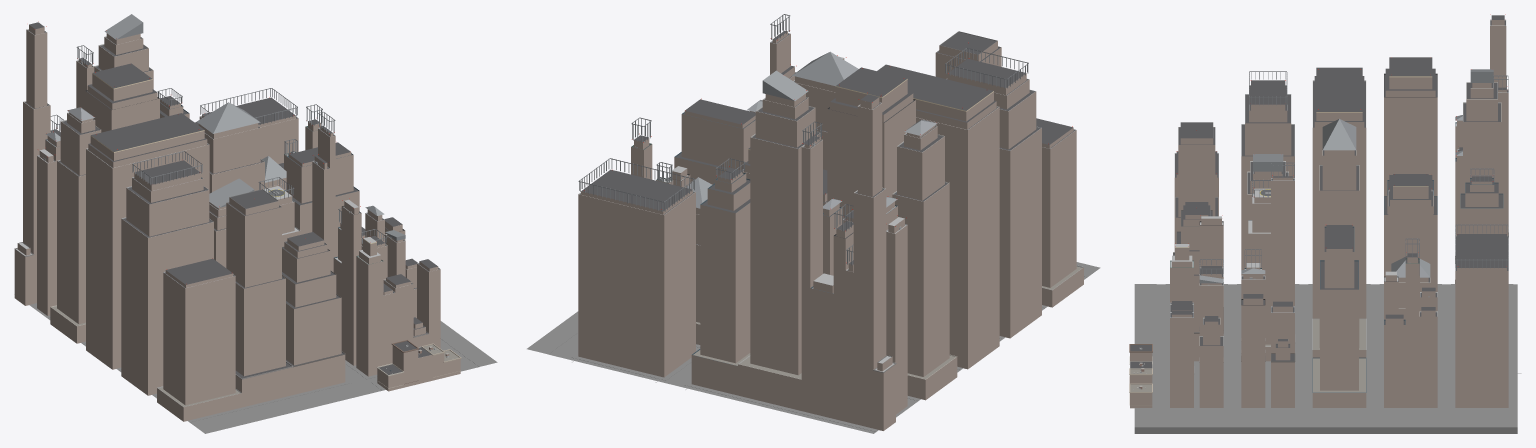
The picture shows the model from 3 angles, left to right: view 1: azimuth 30°, elevation 25°; view 2: azimuth 150°, elevation 25°; view 3: azimuth 270°, elevation 25°; orthographic projection. The views are drawn at different scales.
Visible parts, largest first — view 1: t34_facade, t34_roof, t34_ground, t34_detail; view 2: t34_facade, t34_roof, t34_ground, t34_detail; view 3: t34_facade, t34_ground, t34_roof, t34_detail.
Part boxes in pixels (x1=…): t34_facade: x1=14, y1=25, x2=460, y2=421; t34_roof: x1=16, y1=14, x2=459, y2=406; t34_ground: x1=29, y1=303, x2=497, y2=433; t34_detail: x1=14, y1=29, x2=461, y2=405; t34_facade: x1=578, y1=31, x2=1083, y2=430; t34_roof: x1=578, y1=14, x2=1082, y2=379; t34_ground: x1=527, y1=262, x2=1100, y2=433; t34_detail: x1=578, y1=31, x2=1083, y2=379; t34_facade: x1=1130, y1=20, x2=1508, y2=408; t34_ground: x1=1134, y1=284, x2=1521, y2=433; t34_roof: x1=1130, y1=14, x2=1508, y2=392; t34_detail: x1=1129, y1=19, x2=1508, y2=405.
Bounding box in the file's own units: 385 × 347 × 441.
